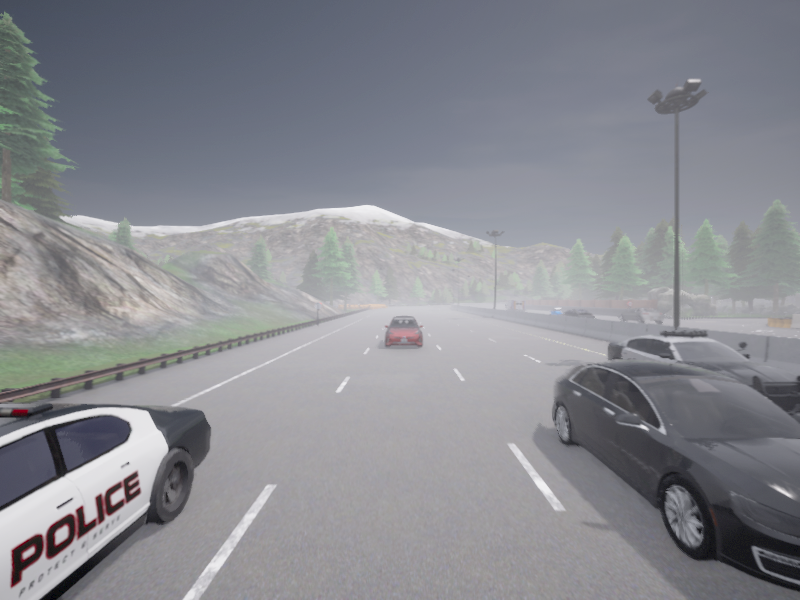vehicle: (552, 360, 799, 592), (0, 403, 211, 599), (606, 330, 799, 414), (384, 316, 422, 347), (619, 307, 663, 323), (560, 309, 593, 317), (505, 300, 524, 311), (550, 308, 562, 314), (505, 304, 506, 306)
